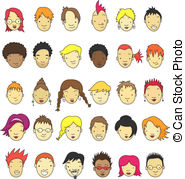face: (56, 77, 87, 111), (29, 33, 55, 70), (115, 37, 142, 72), (110, 76, 140, 107), (2, 112, 31, 144), (27, 74, 53, 109), (85, 78, 113, 109), (2, 146, 29, 178), (139, 1, 164, 35), (139, 76, 165, 108), (114, 1, 140, 33), (85, 2, 110, 35), (56, 6, 85, 34), (85, 41, 111, 72), (140, 116, 169, 143), (60, 40, 84, 72), (1, 38, 26, 68), (32, 1, 57, 31), (143, 40, 165, 74), (61, 151, 88, 178), (30, 114, 56, 142), (4, 5, 28, 35), (59, 116, 84, 143), (114, 154, 142, 178), (90, 149, 112, 176), (89, 117, 111, 144), (115, 116, 136, 144), (144, 153, 168, 176), (7, 78, 26, 106), (35, 149, 53, 178)
